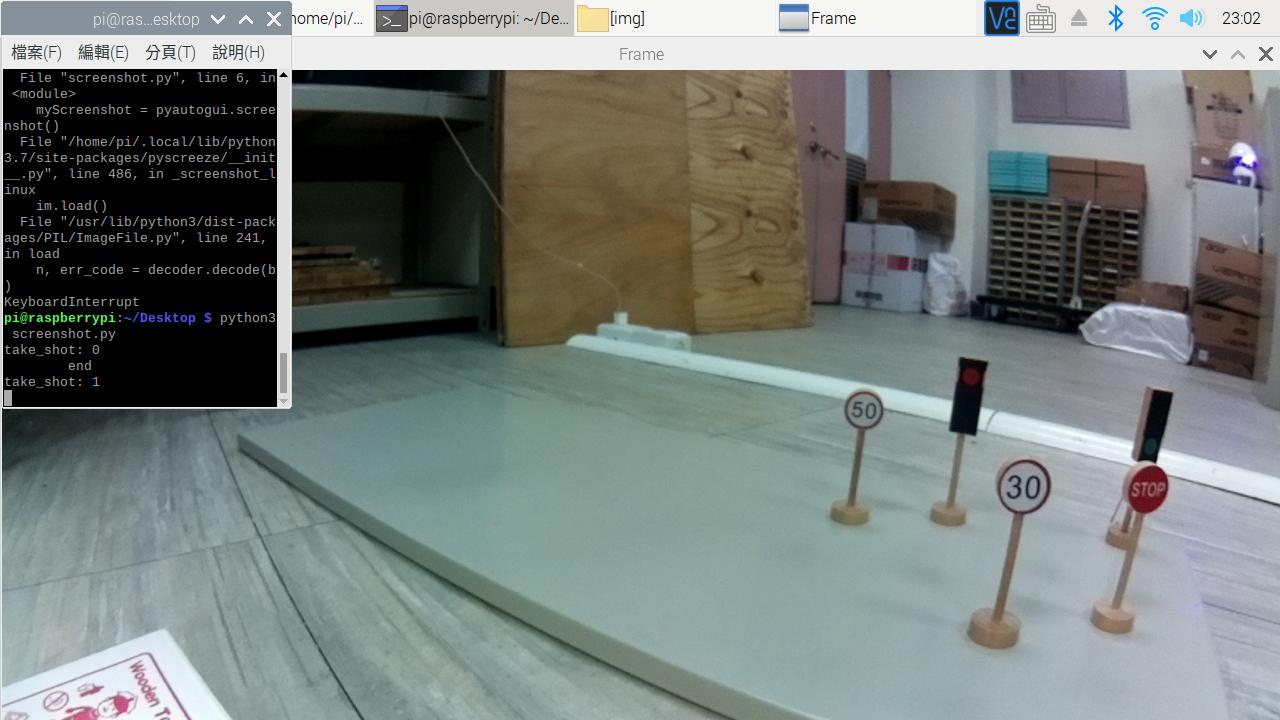Green: (1150, 388, 1159, 469)
Red: (958, 357, 977, 440)
Speed30: (1002, 457, 1051, 517)
Speed50: (848, 388, 883, 427)
Stop: (1136, 472, 1162, 507)
